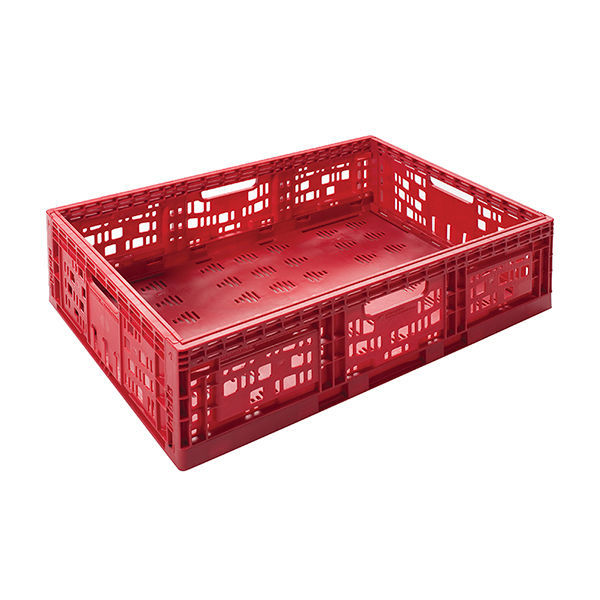Rec_Plastic: (39, 110, 577, 478)
